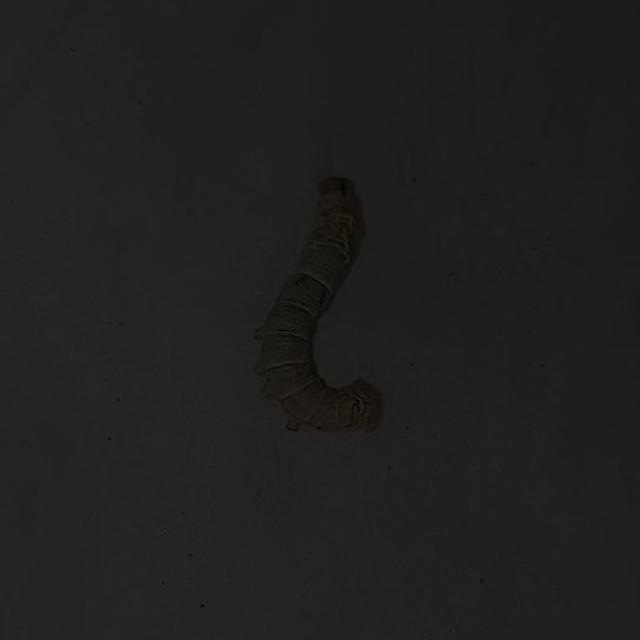Healthy: (244, 167, 392, 439)
